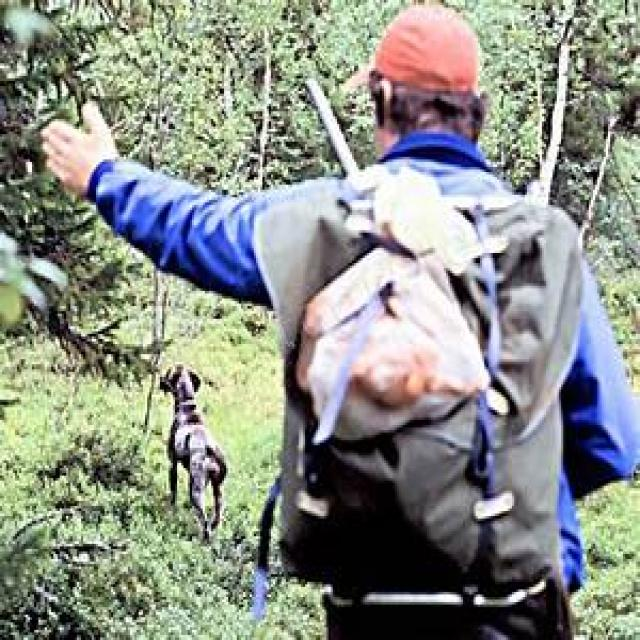animal: (158, 362, 228, 544)
